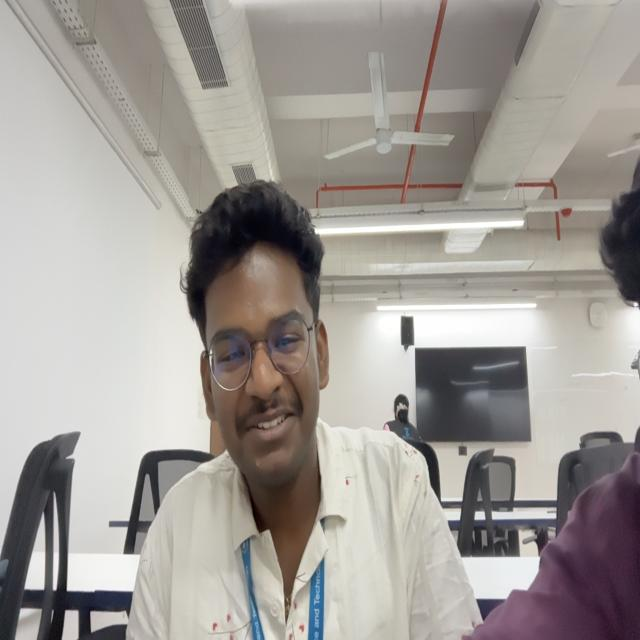sai: (181, 182, 330, 485)
